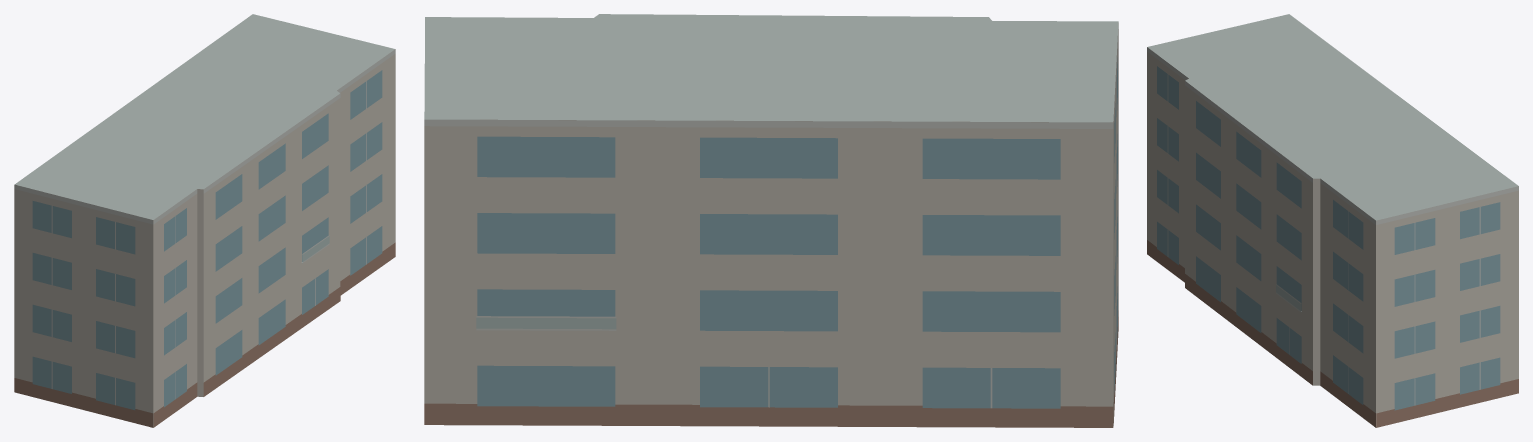
Rendered from survey-upis-32720096.glb.
3 views of the same model, side by side, from view 1: azimuth 30°, elevation 25°; view 2: azimuth 150°, elevation 25°; view 3: azimuth 270°, elevation 25° (orthographic). The views are drawn at different scales.
Visible parts, largest first — view 1: survey-upis-32720096.tmp; view 2: survey-upis-32720096.tmp; view 3: survey-upis-32720096.tmp.
Part boxes in pixels (bbox=[...]): survey-upis-32720096.tmp: bbox=[14, 14, 395, 427]; survey-upis-32720096.tmp: bbox=[424, 14, 1118, 427]; survey-upis-32720096.tmp: bbox=[1147, 14, 1518, 427].
Size of the model in its own units: 23.96 by 11.2 by 18.22.
